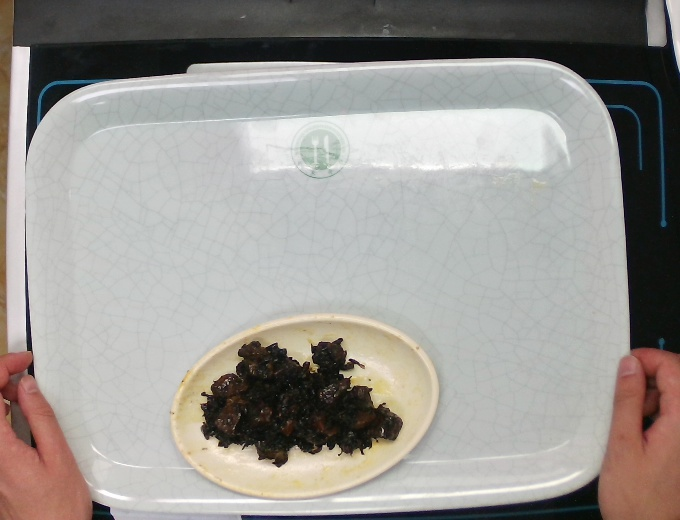JYsf-Tuo_Yuan_Wan: (163, 310, 445, 502)
